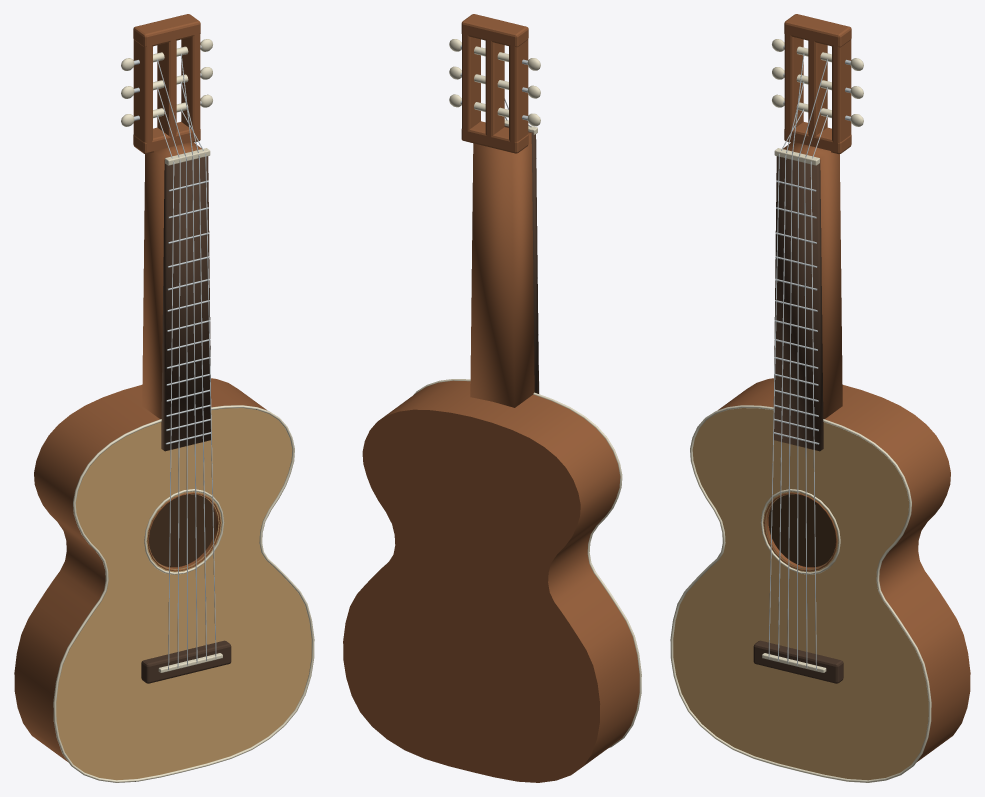
File: guitar_classical_acoustic.glb
The picture shows the model from 3 angles, left to right: view 1: azimuth 30°, elevation 25°; view 2: azimuth 150°, elevation 25°; view 3: azimuth 330°, elevation 25°; orthographic projection.
Parts seen in each view (by area): view 1: ClassicalGuitar_Hollow_Acoustic_Body, ClassicalGuitar_Fingerboard, ClassicalGuitar_Wooden_Neck, ClassicalGuitar_Front_Edge_Binding, ClassicalGuitar_Tie_Block_Bridge, ClassicalGuitar_Slotted_Headstock_Rail, ClassicalGuitar_Slotted_Headstock_Rail.001, ClassicalGuitar_Slotted_Headstock_Rail.002, ClassicalGuitar_Slotted_Headstock_End.001, ClassicalGuitar_String.003, ClassicalGuitar_String.002, ClassicalGuitar_String.001 (+5 smaller); view 2: ClassicalGuitar_Hollow_Acoustic_Body, ClassicalGuitar_Wooden_Neck, ClassicalGuitar_Slotted_Headstock_Rail, ClassicalGuitar_Slotted_Headstock_Rail.001, ClassicalGuitar_Slotted_Headstock_Rail.002, ClassicalGuitar_Slotted_Headstock_End.001, ClassicalGuitar_Fingerboard, ClassicalGuitar_Front_Edge_Binding, ClassicalGuitar_Slotted_Headstock_End; view 3: ClassicalGuitar_Hollow_Acoustic_Body, ClassicalGuitar_Fingerboard, ClassicalGuitar_Wooden_Neck, ClassicalGuitar_Front_Edge_Binding, ClassicalGuitar_Tie_Block_Bridge, ClassicalGuitar_Slotted_Headstock_Rail.002, ClassicalGuitar_Slotted_Headstock_Rail.001, ClassicalGuitar_Slotted_Headstock_Rail, ClassicalGuitar_Slotted_Headstock_End.001, ClassicalGuitar_String.002, ClassicalGuitar_String.003, ClassicalGuitar_String.004 (+5 smaller).
Boxes of the visible parts, box(x1,y1,x2,y2) form: ClassicalGuitar_Hollow_Acoustic_Body: box(14, 378, 311, 780); ClassicalGuitar_Fingerboard: box(161, 156, 210, 451); ClassicalGuitar_Wooden_Neck: box(142, 141, 201, 429); ClassicalGuitar_Front_Edge_Binding: box(53, 405, 314, 782); ClassicalGuitar_Tie_Block_Bridge: box(141, 640, 231, 683); ClassicalGuitar_Slotted_Headstock_Rail: box(133, 40, 152, 146); ClassicalGuitar_Slotted_Headstock_Rail.001: box(157, 36, 176, 142); ClassicalGuitar_Slotted_Headstock_Rail.002: box(181, 30, 200, 134); ClassicalGuitar_Slotted_Headstock_End.001: box(133, 14, 200, 47); ClassicalGuitar_String.003: box(180, 53, 197, 663); ClassicalGuitar_String.002: box(157, 59, 187, 665); ClassicalGuitar_String.001: box(157, 87, 180, 667); ClassicalGuitar_Hollow_Acoustic_Body: box(343, 380, 639, 782); ClassicalGuitar_Wooden_Neck: box(470, 126, 534, 407); ClassicalGuitar_Slotted_Headstock_Rail: box(509, 39, 528, 147); ClassicalGuitar_Slotted_Headstock_Rail.001: box(485, 35, 504, 141); ClassicalGuitar_Slotted_Headstock_Rail.002: box(462, 29, 480, 135); ClassicalGuitar_Slotted_Headstock_End.001: box(461, 14, 528, 47); ClassicalGuitar_Fingerboard: box(504, 125, 538, 393); ClassicalGuitar_Front_Edge_Binding: box(413, 379, 641, 748); ClassicalGuitar_Slotted_Headstock_End: box(461, 121, 528, 153); ClassicalGuitar_Hollow_Acoustic_Body: box(673, 378, 970, 780); ClassicalGuitar_Fingerboard: box(774, 156, 823, 451); ClassicalGuitar_Wooden_Neck: box(783, 141, 842, 429); ClassicalGuitar_Front_Edge_Binding: box(670, 405, 931, 782); ClassicalGuitar_Tie_Block_Bridge: box(753, 640, 843, 683); ClassicalGuitar_Slotted_Headstock_Rail.002: box(832, 40, 851, 147); ClassicalGuitar_Slotted_Headstock_Rail.001: box(808, 36, 827, 142); ClassicalGuitar_Slotted_Headstock_Rail: box(784, 34, 803, 135); ClassicalGuitar_Slotted_Headstock_End.001: box(784, 14, 851, 47); ClassicalGuitar_String.002: box(787, 53, 804, 663); ClassicalGuitar_String.003: box(797, 59, 827, 665); ClassicalGuitar_String.004: box(804, 87, 827, 667).
Size of the model in its own units: 0.3515 by 0.9485 by 0.1146.
